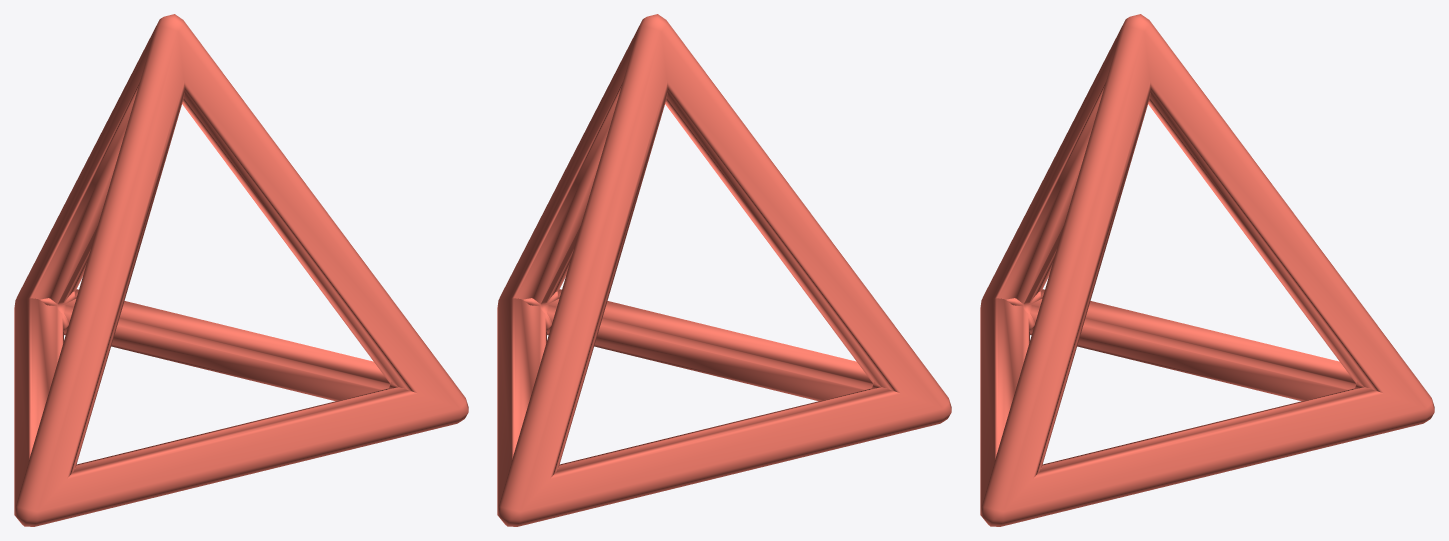
3 renders of one model, left to right at view 1: azimuth 30°, elevation 25°; view 2: azimuth 150°, elevation 25°; view 3: azimuth 270°, elevation 25°, orthographic.
Visible parts, largest first — view 1: Cone; view 2: Cone; view 3: Cone.
Part boxes in pixels (x1,y1,x2,y2): Cone: [14, 14, 468, 526]; Cone: [497, 14, 951, 526]; Cone: [980, 14, 1434, 526].
Size of the model in its own units: 2.59 by 2.22 by 2.26.
